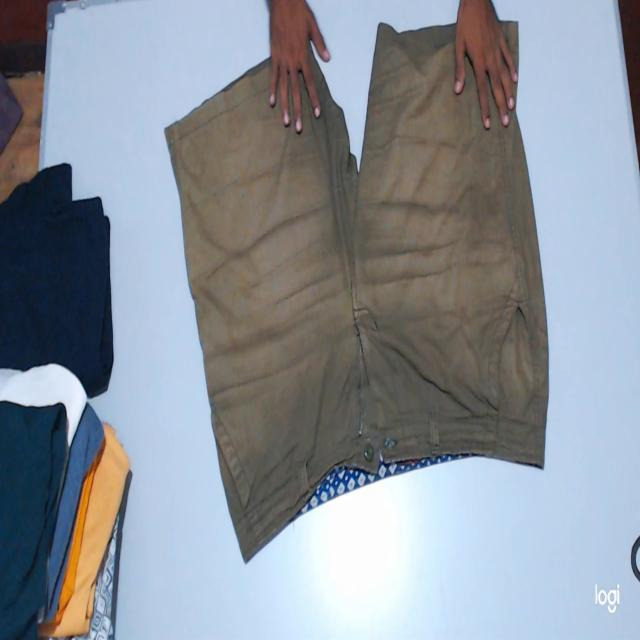new-garment: (165, 23, 548, 562), (165, 23, 548, 561)
